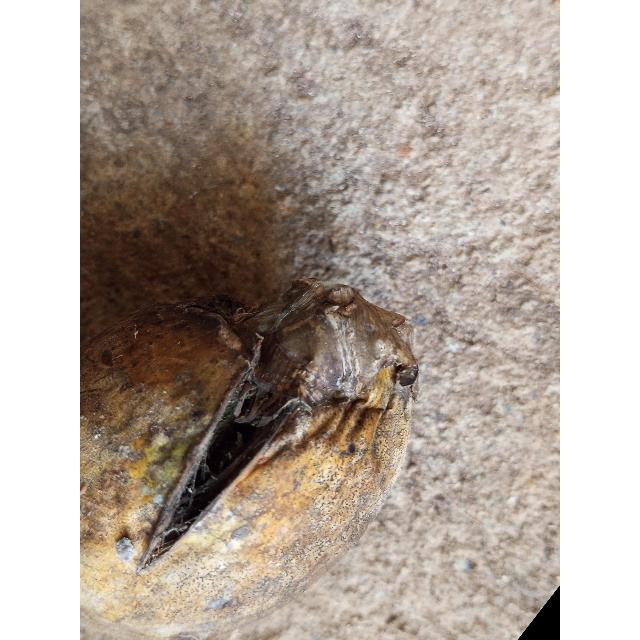damaged: (80, 282, 417, 640)
